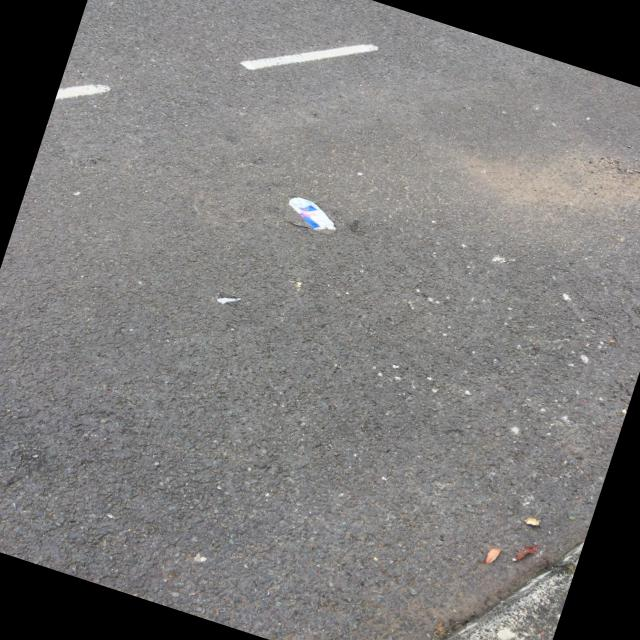Drink can: (288, 199, 336, 232)
Unlabeled litter: (217, 298, 242, 305)
